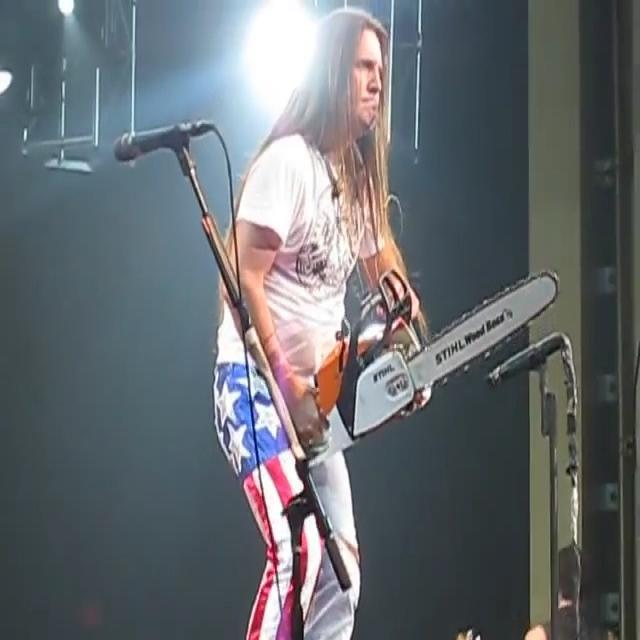Chainsaw: (292, 239, 574, 485)
